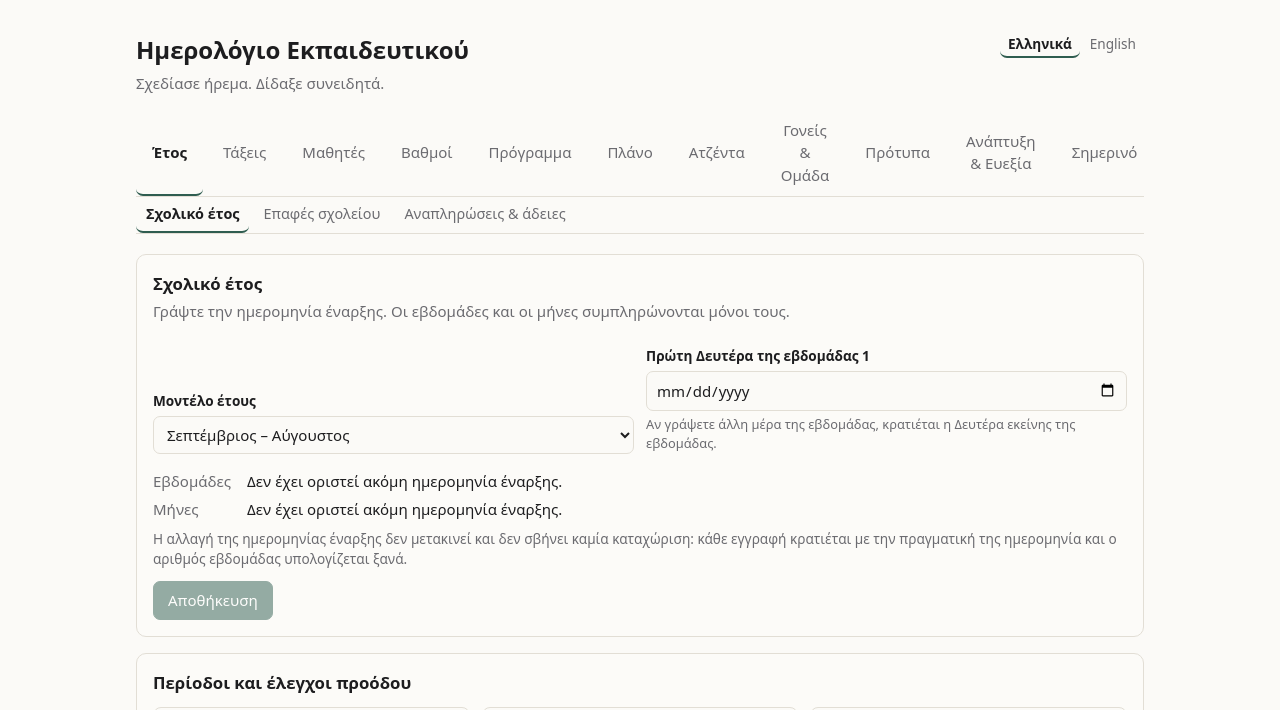
Test: the app shell › reads the calendar once, at the shell, and passes the day down
Expected: the heading "Σχολικό έτος" is shown, [153,272,262,295]
Click the button "Σημερινό": (1104, 153) [1056,110,1153,196]
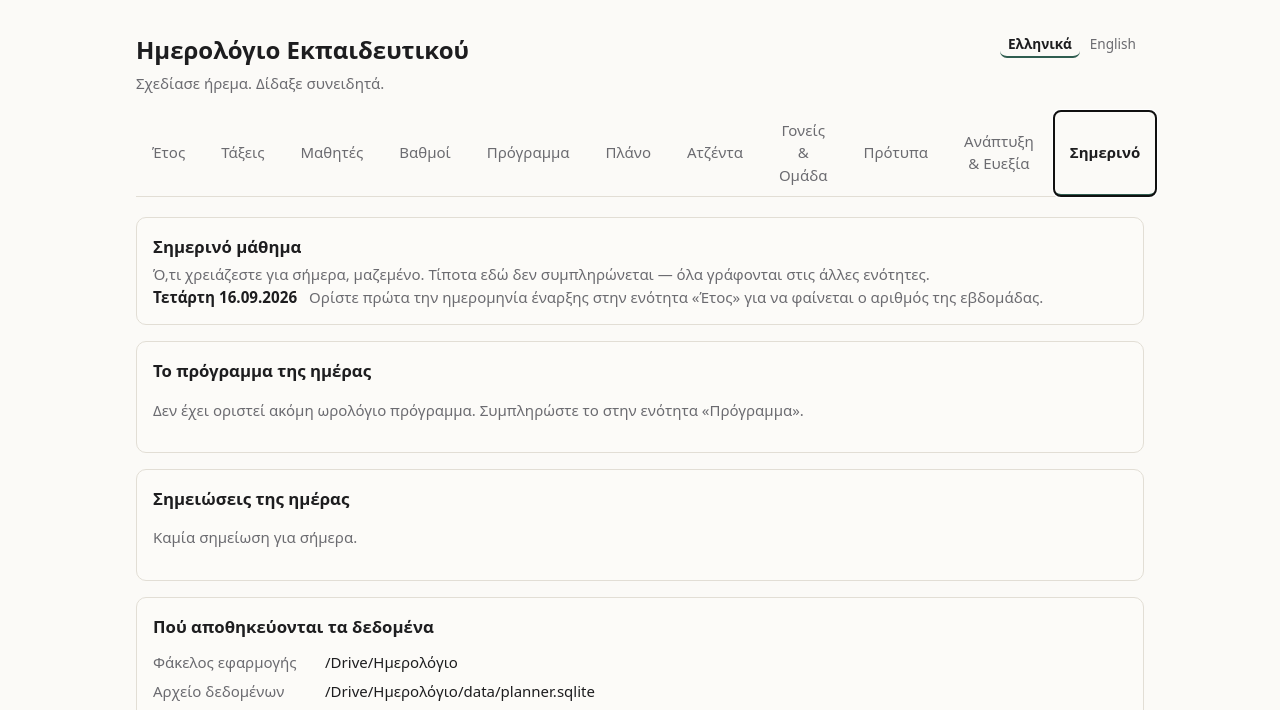
Expected: the heading "Τετάρτη 16.09.2026" is shown, [153,286,297,308]
